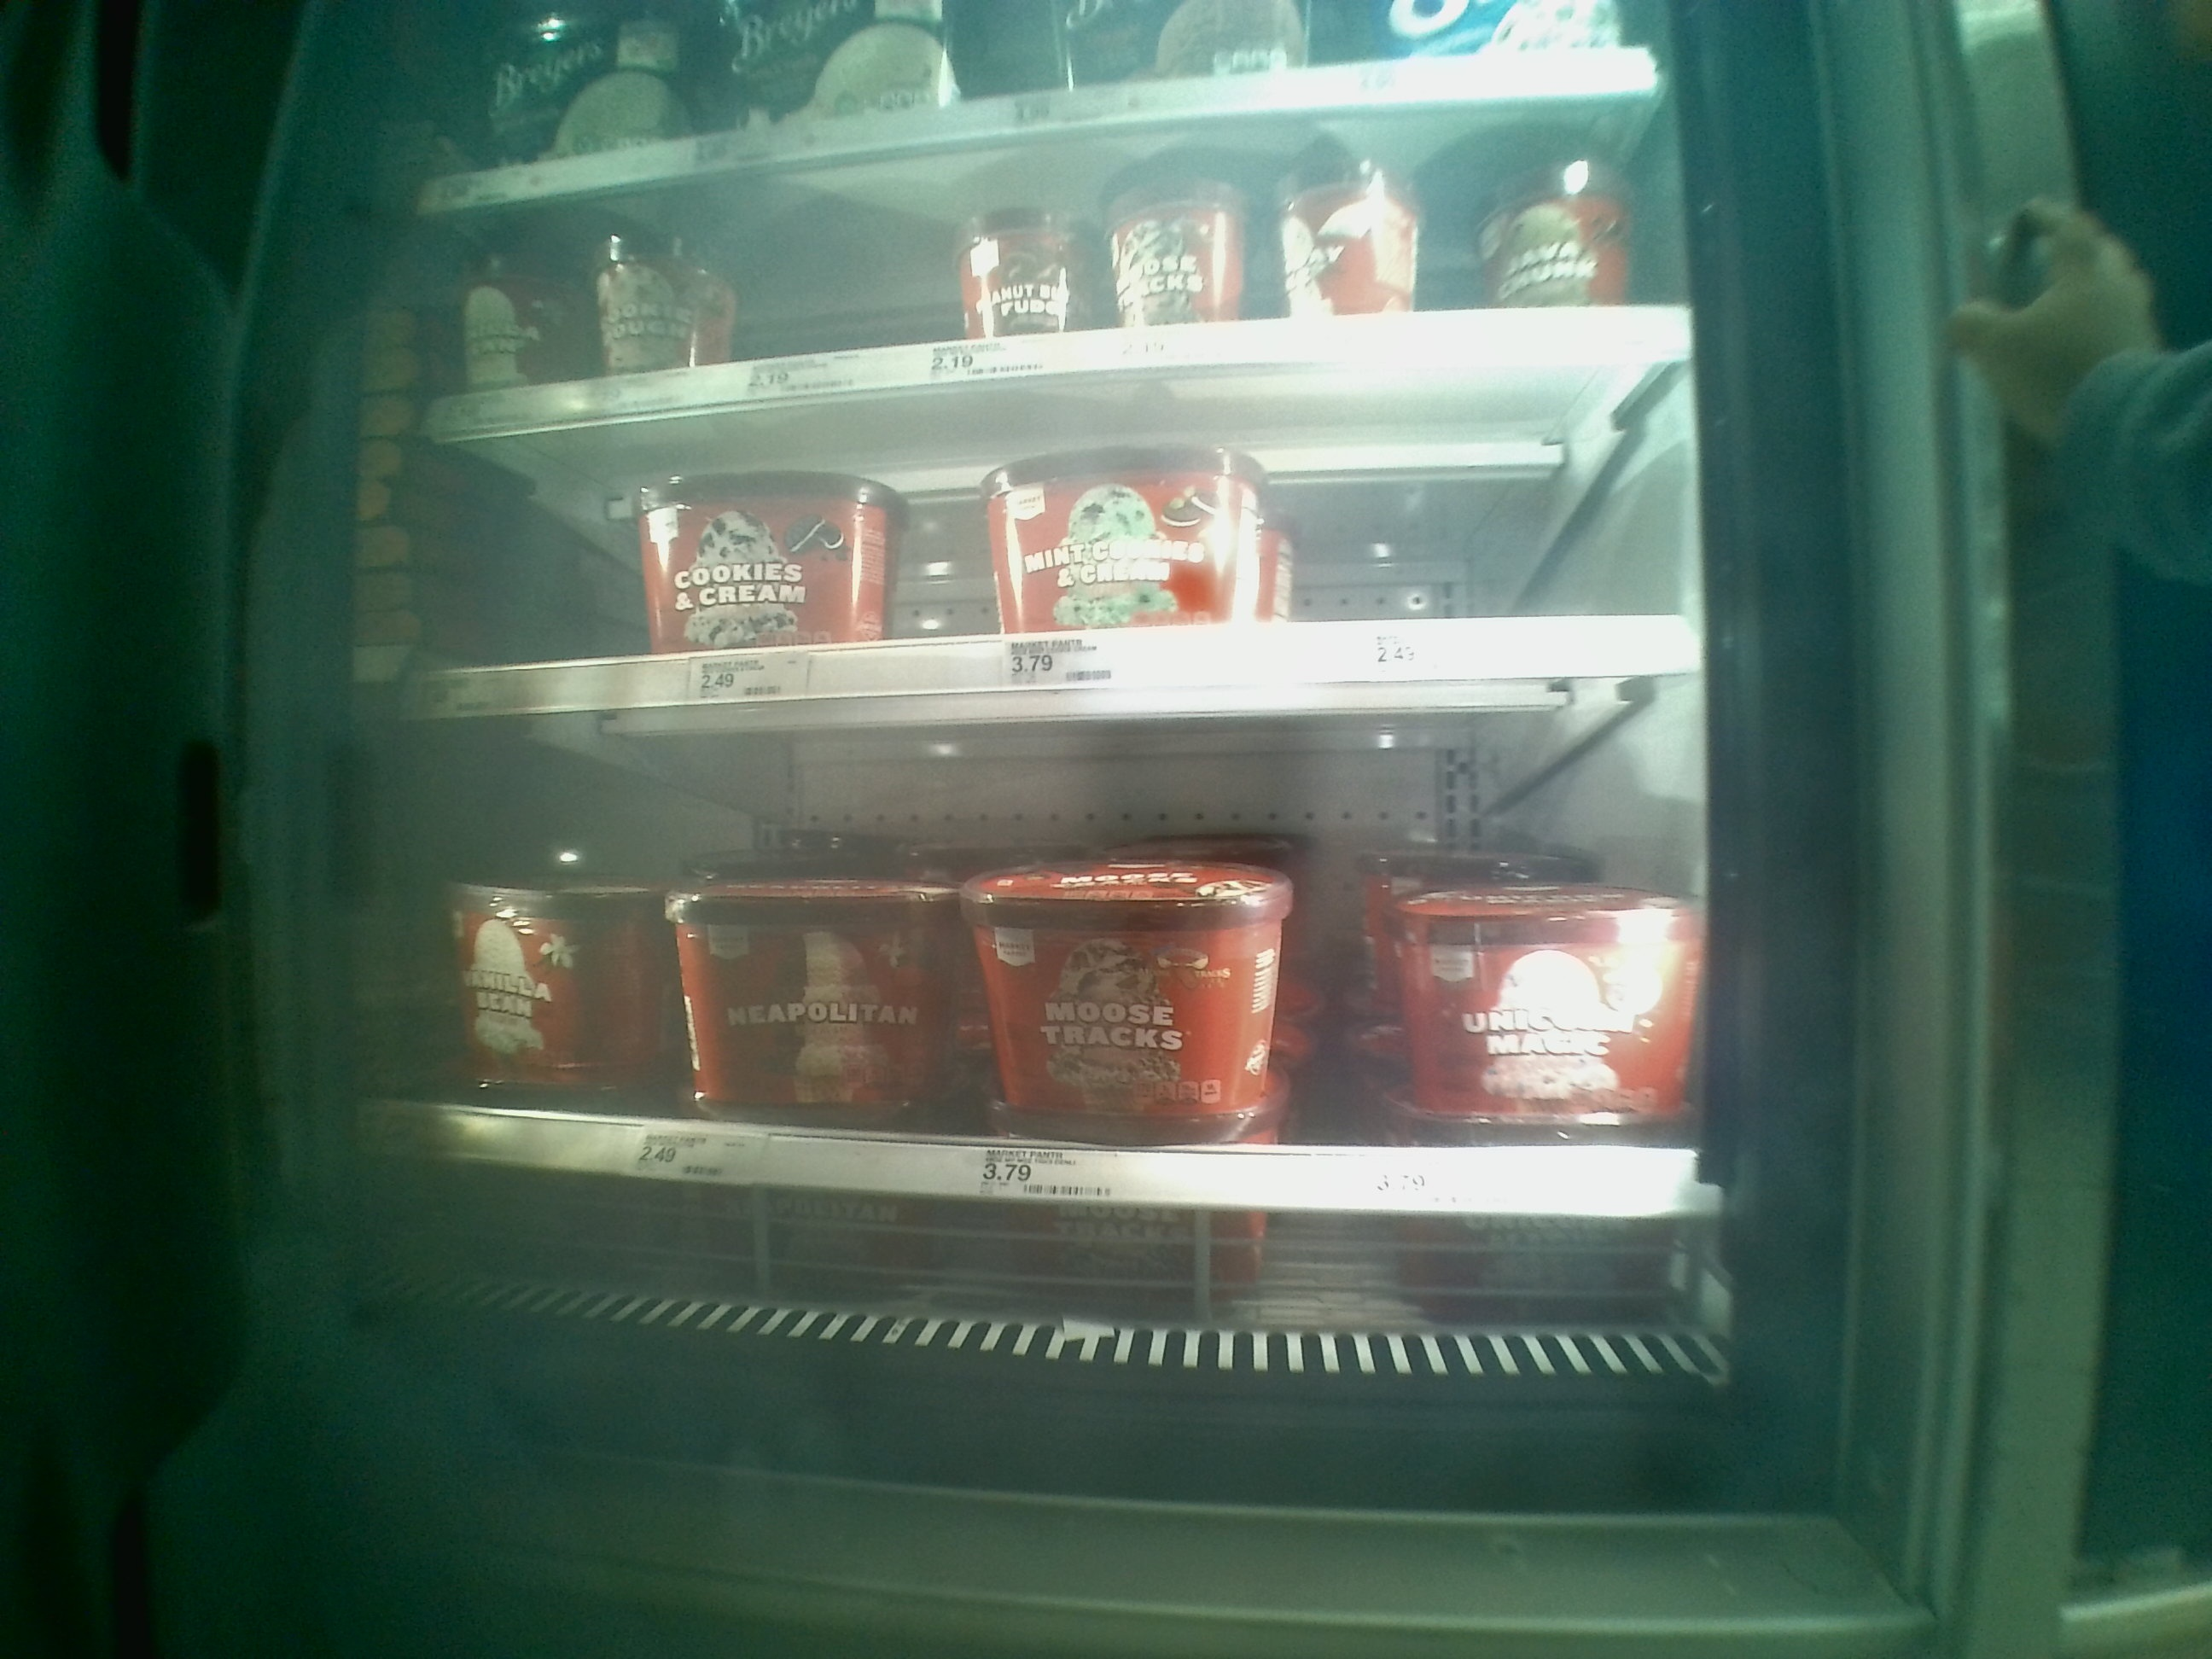ice-cream-shelf: (404, 718, 1709, 1190)
